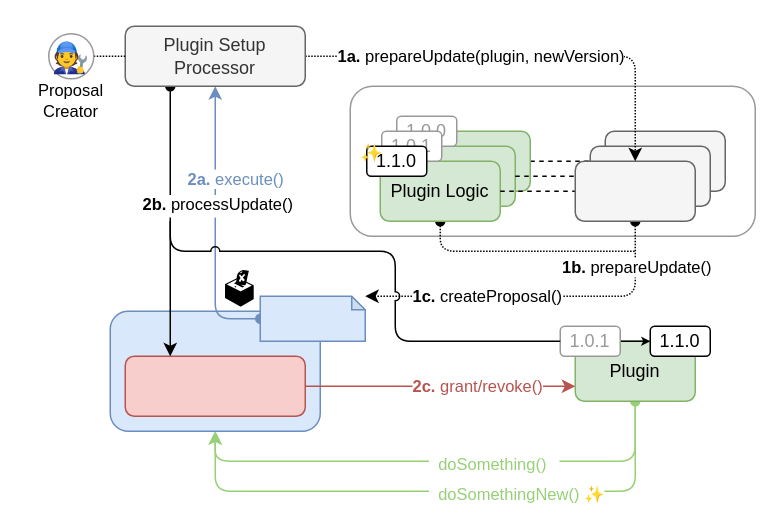
The diagram is 782 pixels wide and 530 high, and some of its shapes have lost their labels. The shapes that lost their labels are listed below. From the top down, each one's box as (x1, y1, x2, y2) in pixels, then its label:
(349, 85, 755, 236): Plugin Repository
(574, 160, 695, 221): Plugin Setup
(259, 295, 365, 341): Proposal : update plugin
(109, 310, 320, 431): DAO
(124, 355, 305, 416): Permission Manager
